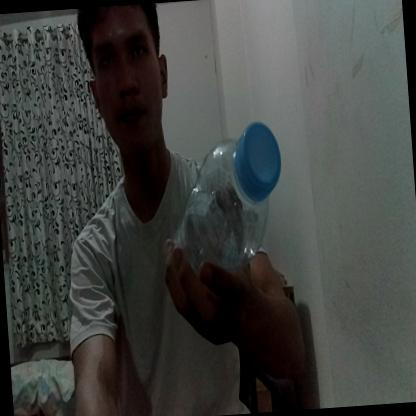plastic_bottles: (156, 117, 291, 292)
